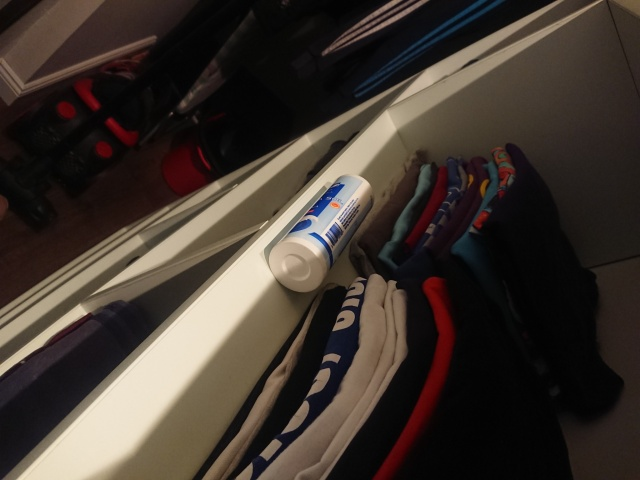Solana Pag Fine Sea Salt 250g: (266, 172, 377, 295)
